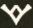button: (0, 2, 32, 25)
